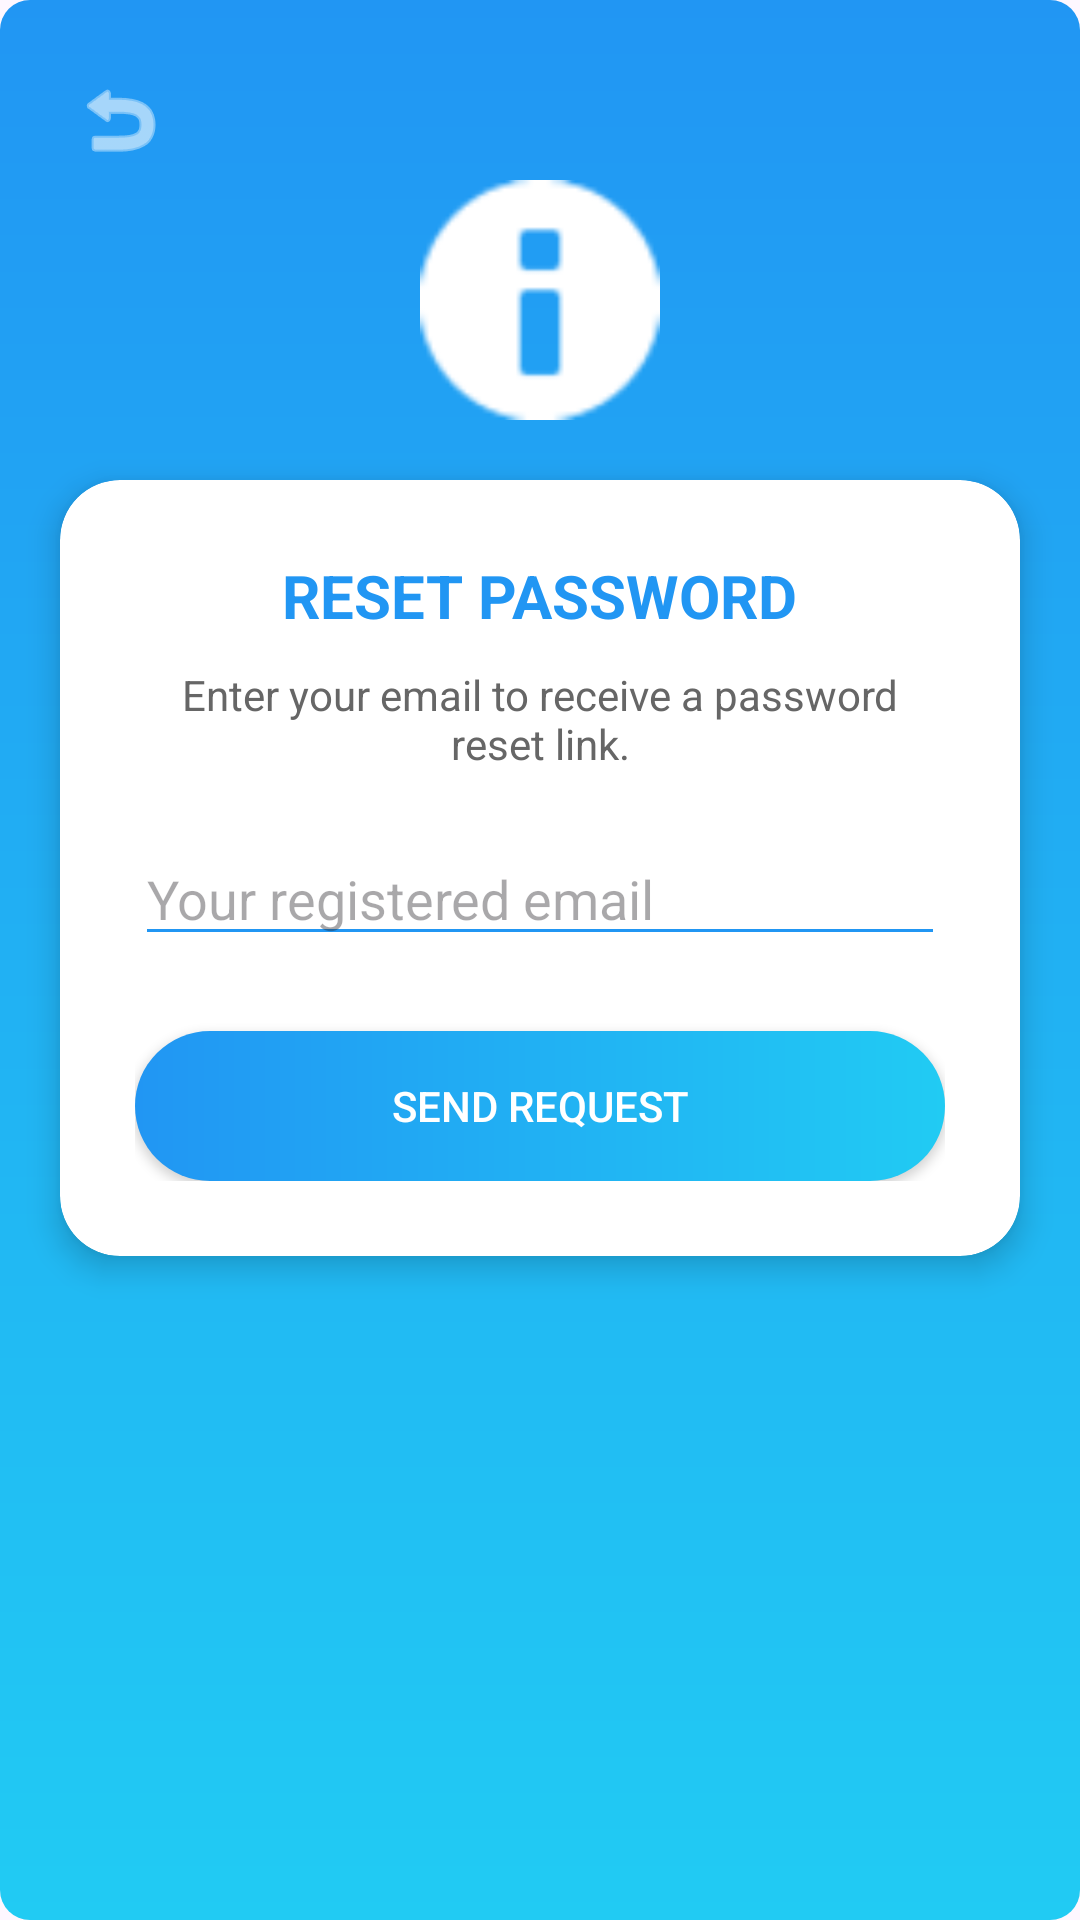

Named icons in this screenshot (1080px×1920px) and their centers, point (x, y):
Back to login: point (121, 120)
info: point (540, 300)
